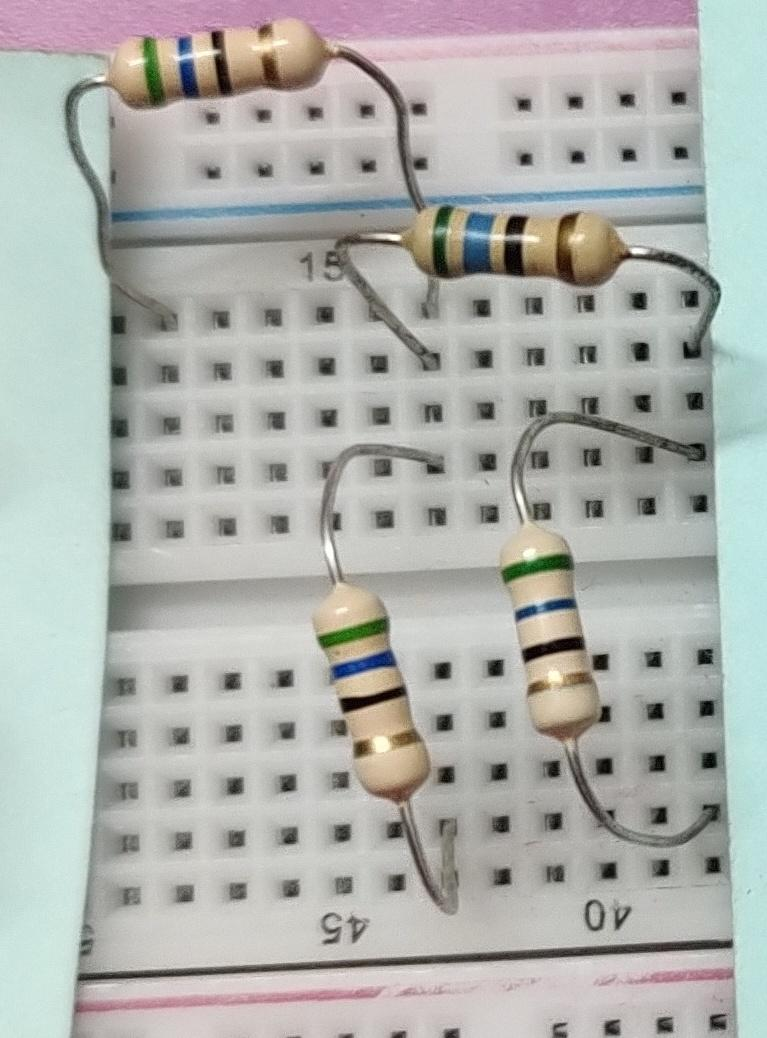resistor: (301, 571, 444, 806), (489, 513, 616, 753), (99, 3, 325, 133), (397, 187, 650, 295)
